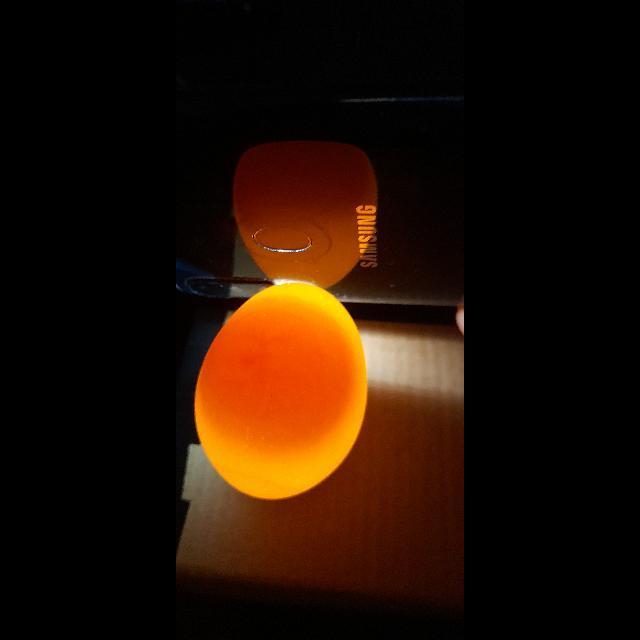Fertile: (200, 277, 368, 507)
